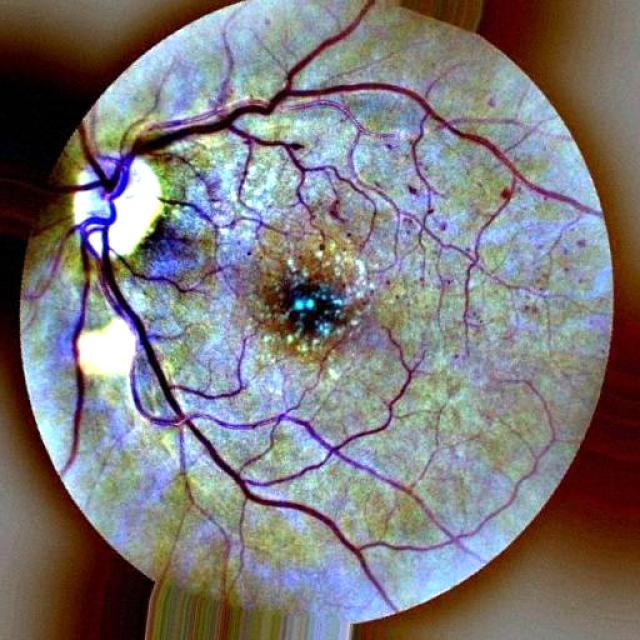Macula: (286, 279, 344, 336)
Nerves: (52, 0, 438, 604), (155, 195, 219, 230)
Optic Disk: (72, 154, 162, 254)
